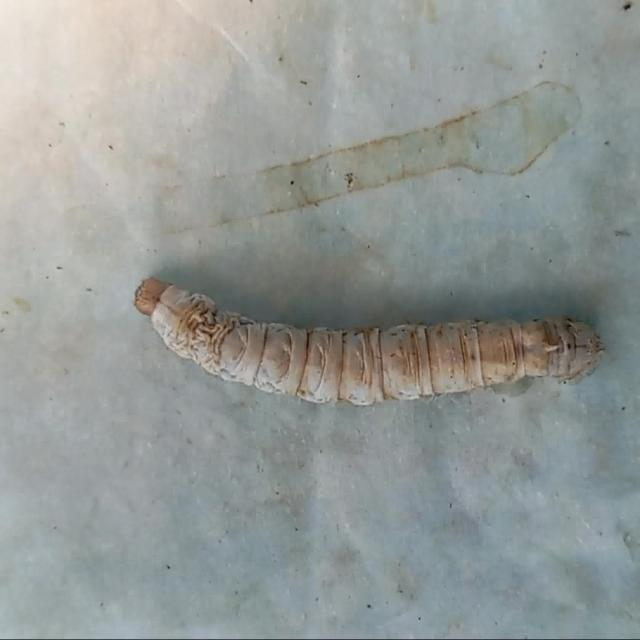Grasserie: (129, 255, 613, 447)
